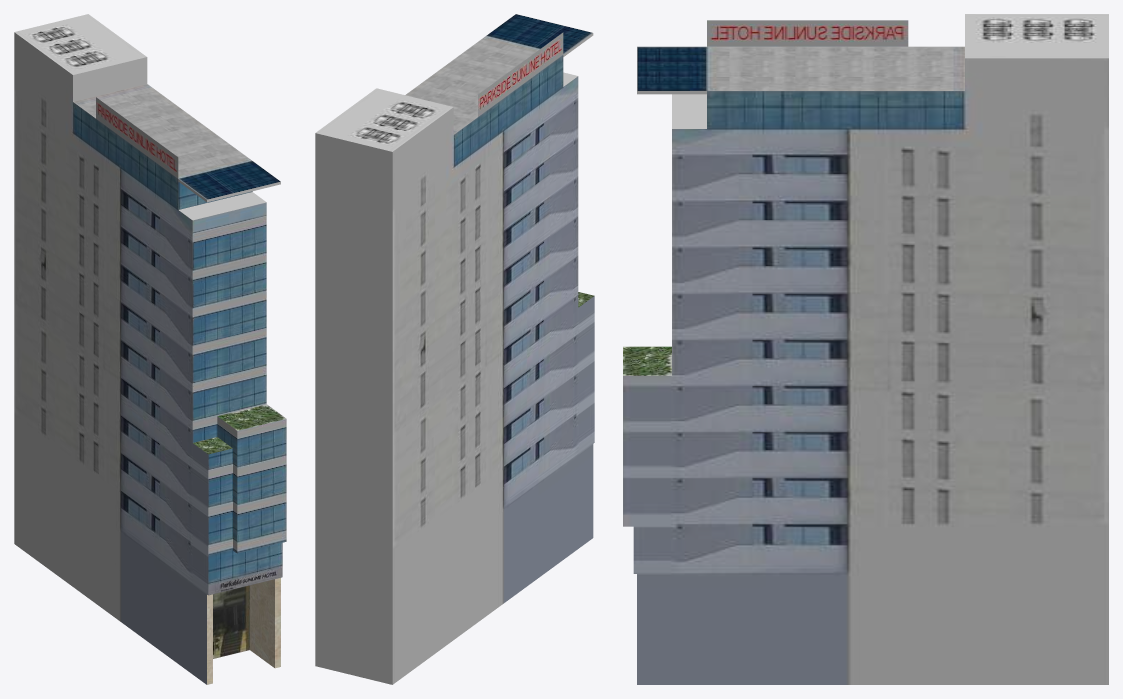
3 views of the same model, side by side, from view 1: azimuth 30°, elevation 25°; view 2: azimuth 150°, elevation 25°; view 3: azimuth 270°, elevation 25° (orthographic). The views are drawn at different scales.
Visible parts, largest first — view 1: HN089___Parkside_Sunline_Hotel; view 2: HN089___Parkside_Sunline_Hotel; view 3: HN089___Parkside_Sunline_Hotel.
Boxes of the visible parts, bbox=[...] form: HN089___Parkside_Sunline_Hotel: bbox=[14, 14, 286, 684]; HN089___Parkside_Sunline_Hotel: bbox=[315, 14, 594, 684]; HN089___Parkside_Sunline_Hotel: bbox=[623, 14, 1108, 684].
Size of the model in its own units: 6 by 39.57 by 27.8.
1 material, 1 textured.
